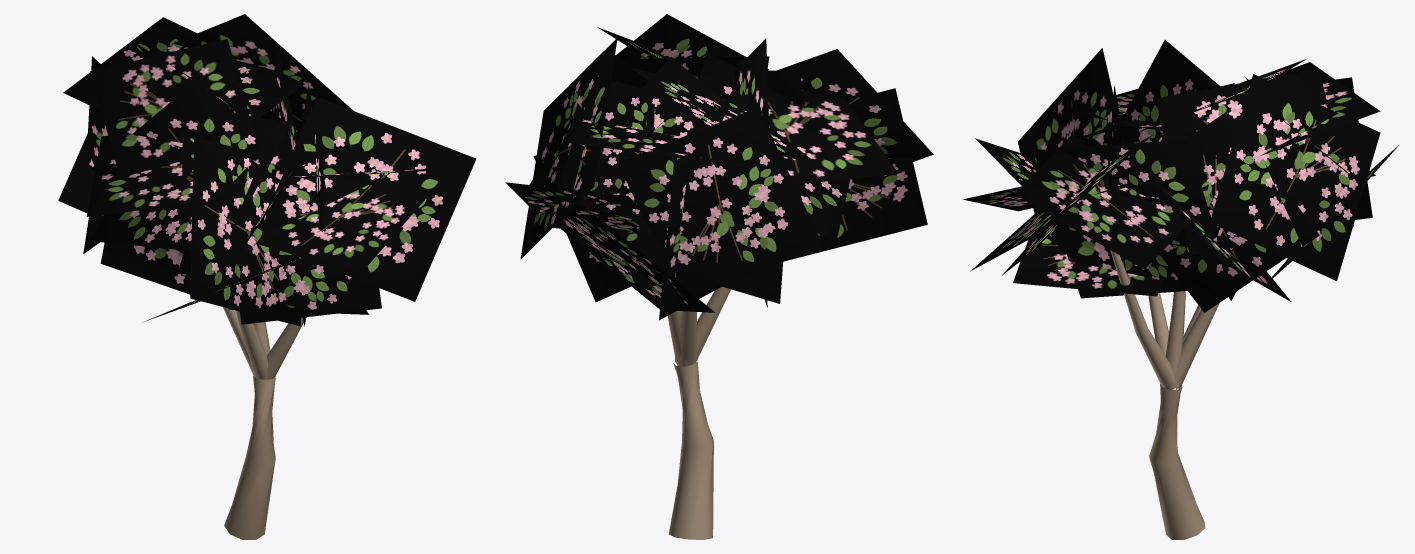
Rendered from prunus-serrulata.glb.
3 renders of one model, left to right at view 1: azimuth 30°, elevation 25°; view 2: azimuth 150°, elevation 25°; view 3: azimuth 270°, elevation 25°, orthographic. The views are drawn at different scales.
Parts seen in each view (by area): view 1: folhas, tronco; view 2: folhas, tronco; view 3: folhas, tronco.
Boxes of the visible parts, x1,y1,x2,y2 form: folhas: (58,14,476,326); tronco: (223,307,303,539); folhas: (505,14,933,320); tronco: (667,286,730,539); folhas: (962,40,1398,312); tronco: (1110,250,1219,539).
Bounding box in the file's own units: 4.36 × 6 × 5.
Materials: 2 (1 with a texture image).
